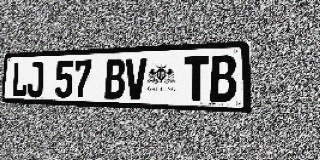5: (55, 60, 73, 98)
7: (73, 60, 92, 98)
B: (210, 55, 237, 102), (105, 59, 125, 99)
J: (27, 61, 44, 97)
L: (12, 62, 28, 97)
T: (184, 56, 209, 101)
V: (125, 58, 147, 100)
